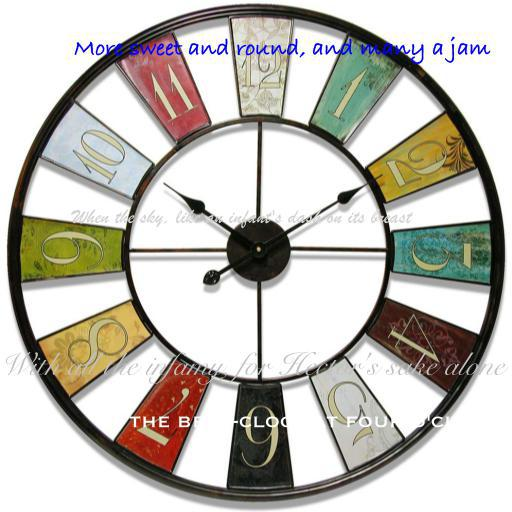Bradley Hand: (73, 36, 491, 64)
Brush Script MT: (71, 209, 411, 229)
Copperplate: (102, 414, 498, 428)
Snell Roundhand: (0, 351, 505, 385)
